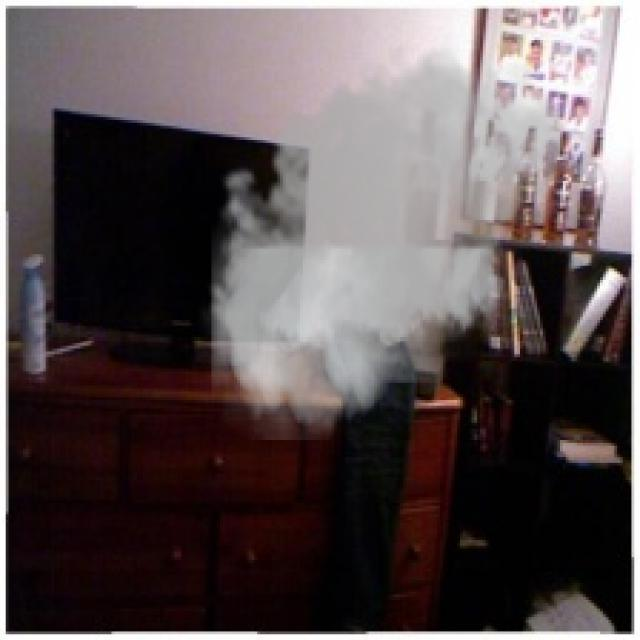Smoke: (197, 31, 574, 440)
